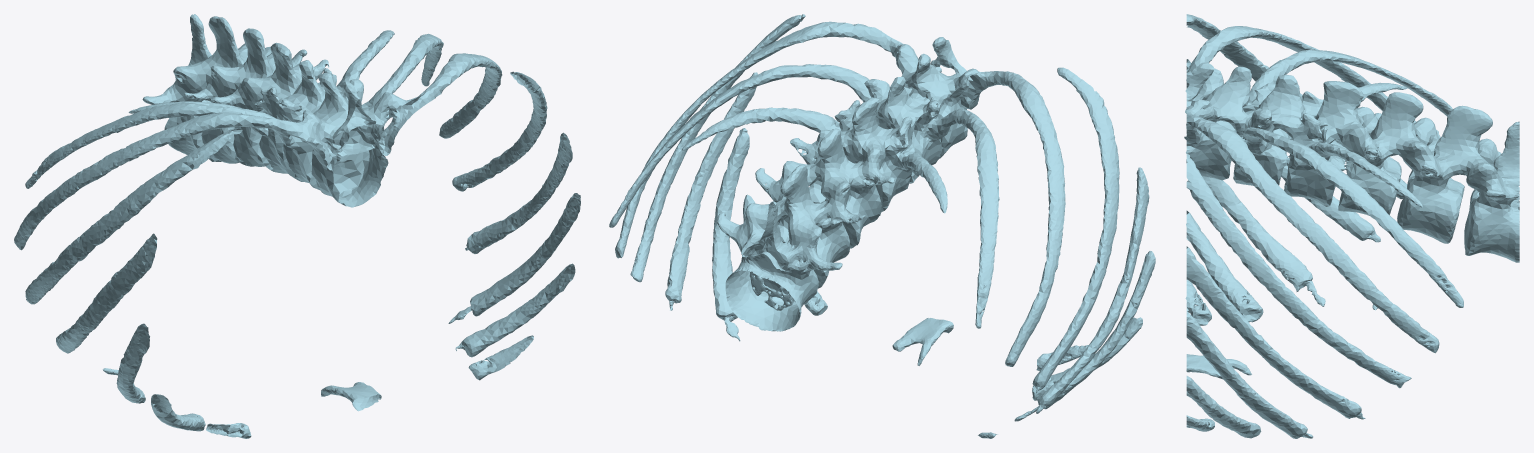
The model's file is bone.obj.
3 views of the same model, side by side, from view 1: azimuth 30°, elevation 25°; view 2: azimuth 150°, elevation 25°; view 3: azimuth 270°, elevation 25° (orthographic). The views are drawn at different scales.
Visible parts, largest first — view 1: grp1; view 2: grp1; view 3: grp1.
Part boxes in pixels (x1,y1,x2,y2): grp1: (14,14,580,438); grp1: (609,14,1155,438); grp1: (1184,14,1519,438).
Size of the model in its own units: 271 by 187 by 179.
